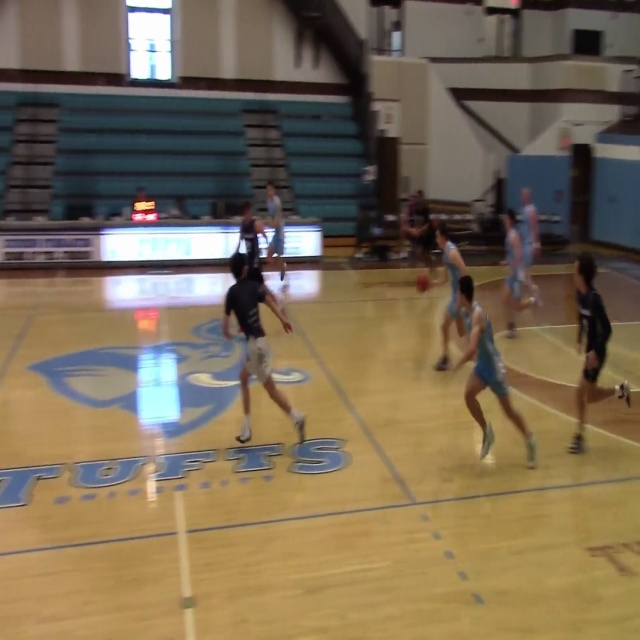Basketball: (416, 274, 429, 292), (253, 219, 265, 234)
